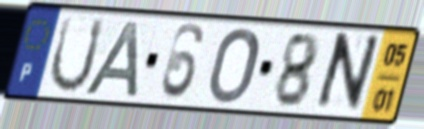6: (157, 21, 207, 104)
8: (272, 31, 324, 111)
A: (81, 18, 142, 101)
N: (309, 30, 384, 115)
O: (206, 26, 262, 107)
U: (46, 14, 108, 96)
